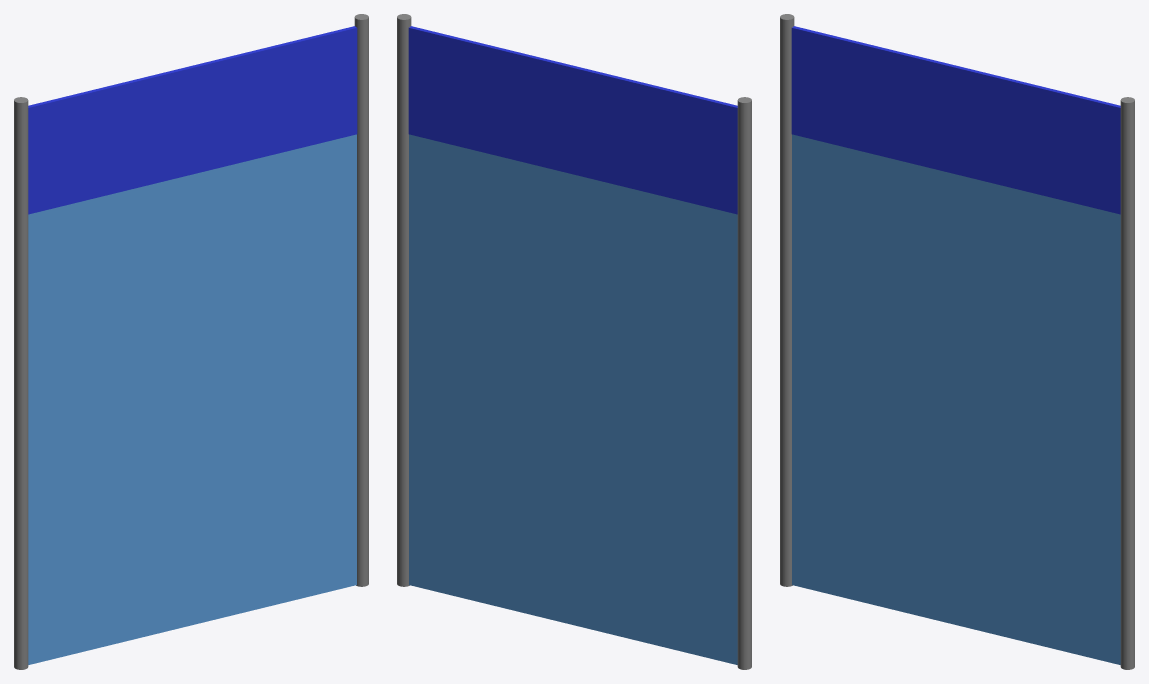
Rendered from Gate.fbx.
3 renders of one model, left to right at view 1: azimuth 30°, elevation 25°; view 2: azimuth 150°, elevation 25°; view 3: azimuth 330°, elevation 25°, orthographic.
Parts seen in each view (by area): view 1: Inside, Title, Pole_Leff, Pole_Right; view 2: Inside, Title, Pole_Leff, Pole_Right; view 3: Inside, Title, Pole_Right, Pole_Leff.
Boxes of the visible parts, x1,y1,x2,y2 form: Inside: [28, 134, 356, 664]; Title: [28, 26, 357, 214]; Pole_Leff: [14, 97, 28, 669]; Pole_Right: [354, 14, 368, 586]; Inside: [409, 134, 737, 664]; Title: [408, 26, 737, 214]; Pole_Leff: [737, 97, 751, 669]; Pole_Right: [397, 14, 411, 586]; Inside: [792, 134, 1120, 664]; Title: [791, 26, 1120, 214]; Pole_Right: [1120, 97, 1134, 669]; Pole_Leff: [780, 14, 794, 586].
Size of the model in its own units: 8.66 by 13.3 by 0.3.
